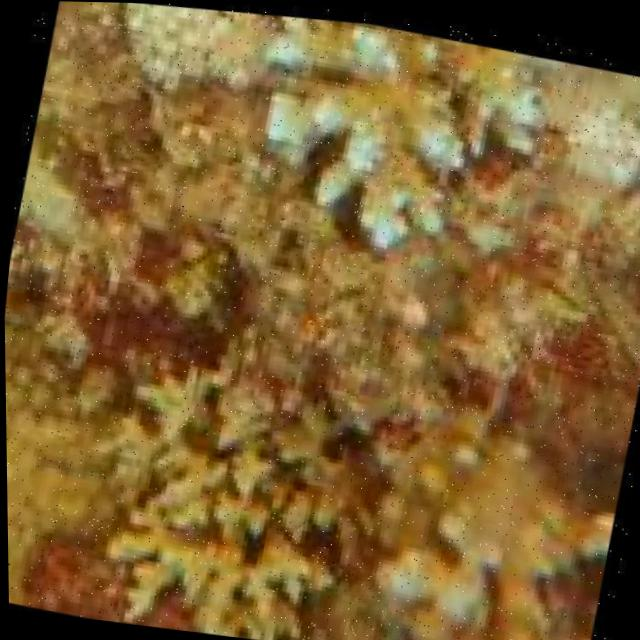Bleached Coral: (236, 4, 512, 259)
